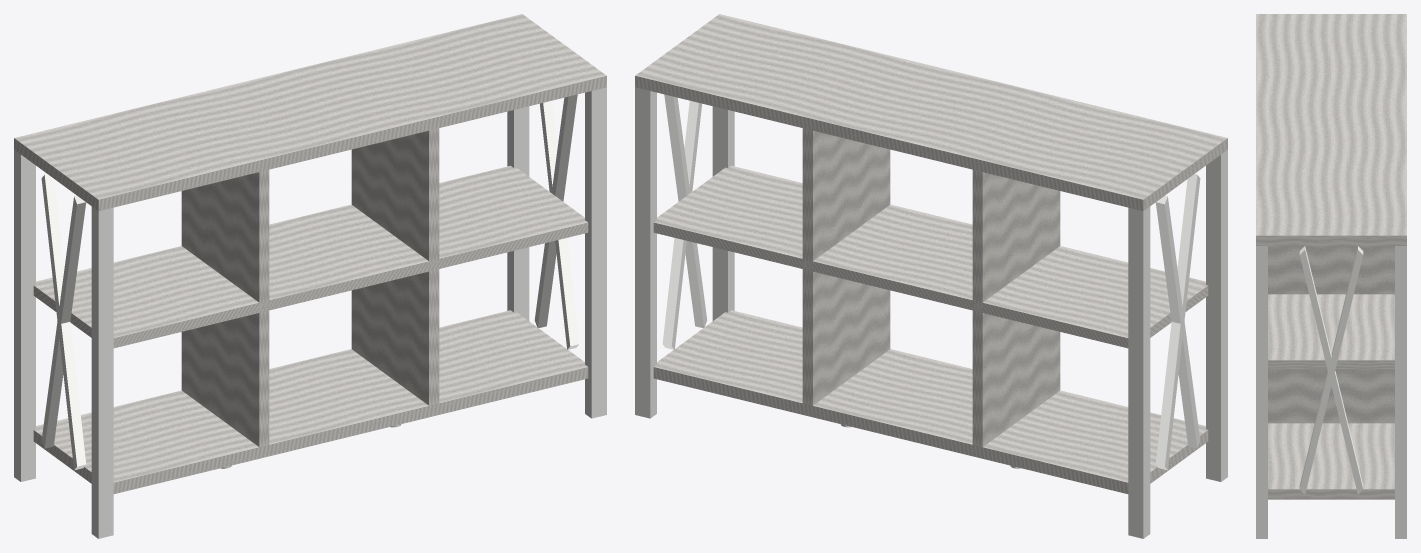
3 renders of one model, left to right at view 1: azimuth 30°, elevation 25°; view 2: azimuth 150°, elevation 25°; view 3: azimuth 270°, elevation 25°, orthographic. The views are drawn at different scales.
Parts seen in each view (by area): view 1: 1 top_shelf, 3 bottom_shelf, 2 middle_shelf, 5 right_divider, 4 left_divider, 7 back_left_leg, 9 back_right_leg, 6 front_left_leg, 13 left_x_brace_2, 12 left_x_brace_1, 8 front_right_leg, 14 right_x_brace_1 (+1 smaller); view 2: 1 top_shelf, 3 bottom_shelf, 2 middle_shelf, 5 right_divider, 4 left_divider, 6 front_left_leg, 8 front_right_leg, 7 back_left_leg, 12 left_x_brace_1, 13 left_x_brace_2, 9 back_right_leg, 15 right_x_brace_2 (+1 smaller); view 3: 1 top_shelf, 5 right_divider, 3 bottom_shelf, 2 middle_shelf, 8 front_right_leg, 9 back_right_leg, 14 right_x_brace_1, 15 right_x_brace_2.
Boxes of the visible parts, left/top/right/bottom form: 1 top_shelf: left=14, top=14, right=606, bottom=211; 3 bottom_shelf: left=33, top=310, right=588, bottom=493; 2 middle_shelf: left=33, top=165, right=588, bottom=348; 5 right_divider: left=351, top=128, right=439, bottom=405; 4 left_divider: left=181, top=170, right=269, bottom=446; 7 back_left_leg: left=91, top=206, right=113, bottom=538; 9 back_right_leg: left=585, top=87, right=606, bottom=418; 6 front_left_leg: left=14, top=150, right=35, bottom=481; 13 left_x_brace_2: left=41, top=174, right=86, bottom=470; 12 left_x_brace_1: left=41, top=195, right=86, bottom=448; 8 front_right_leg: left=507, top=106, right=529, bottom=320; 14 right_x_brace_1: left=534, top=94, right=577, bottom=327; 1 top_shelf: left=635, top=14, right=1227, bottom=211; 3 bottom_shelf: left=653, top=310, right=1208, bottom=493; 2 middle_shelf: left=653, top=165, right=1208, bottom=348; 5 right_divider: left=802, top=128, right=890, bottom=405; 4 left_divider: left=972, top=170, right=1060, bottom=446; 6 front_left_leg: left=1128, top=206, right=1150, bottom=538; 8 front_right_leg: left=635, top=87, right=656, bottom=418; 7 back_left_leg: left=1206, top=150, right=1227, bottom=481; 12 left_x_brace_1: left=1155, top=174, right=1200, bottom=470; 13 left_x_brace_2: left=1155, top=195, right=1200, bottom=448; 9 back_right_leg: left=712, top=106, right=734, bottom=320; 15 right_x_brace_2: left=664, top=94, right=707, bottom=327; 1 top_shelf: left=1256, top=14, right=1406, bottom=245; 5 right_divider: left=1268, top=246, right=1394, bottom=423; 3 bottom_shelf: left=1268, top=423, right=1394, bottom=499; 2 middle_shelf: left=1268, top=294, right=1394, bottom=369; 8 front_right_leg: left=1395, top=246, right=1406, bottom=538; 9 back_right_leg: left=1256, top=246, right=1267, bottom=538; 14 right_x_brace_1: left=1299, top=246, right=1363, bottom=494; 15 right_x_brace_2: left=1299, top=246, right=1363, bottom=494.
Size of the model in its own units: 1.2 by 0.765 by 0.3449.
2 materials, 1 textured.
